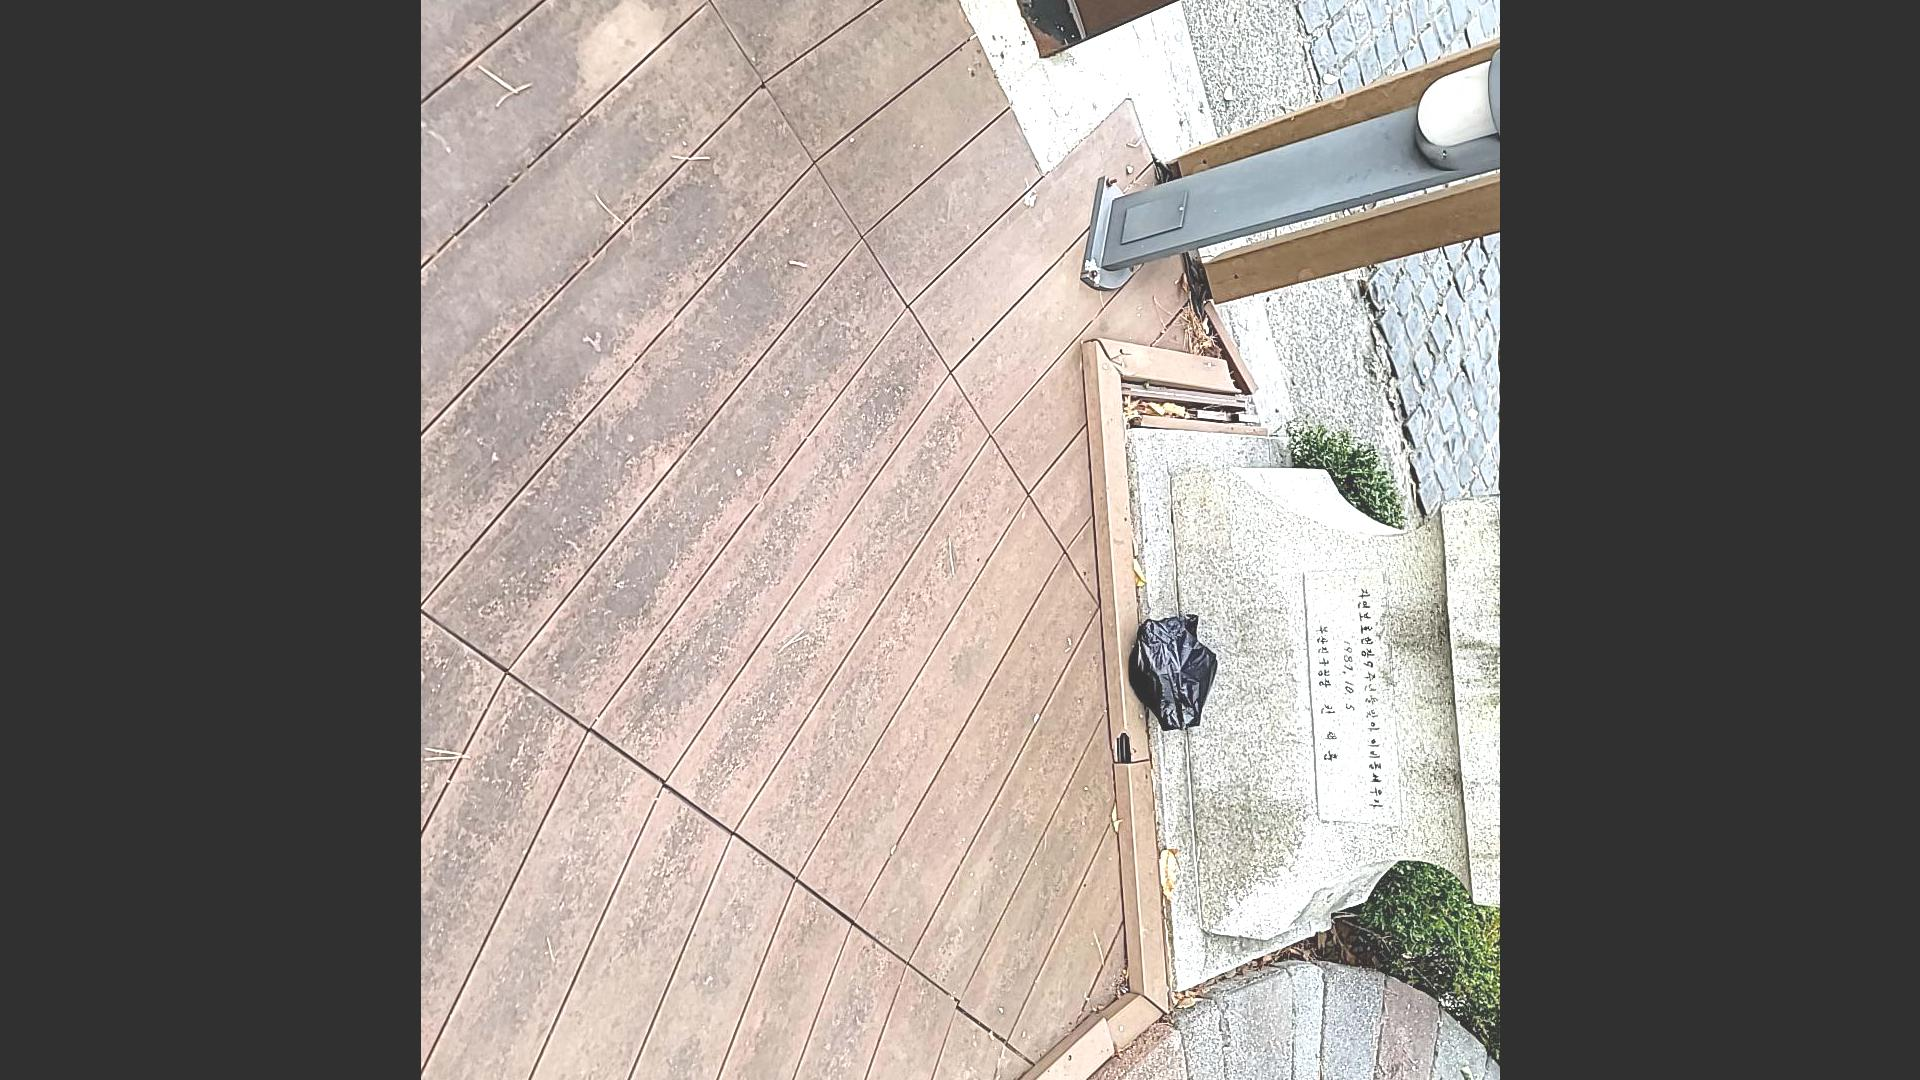black_bag: (1124, 601, 1225, 737)
